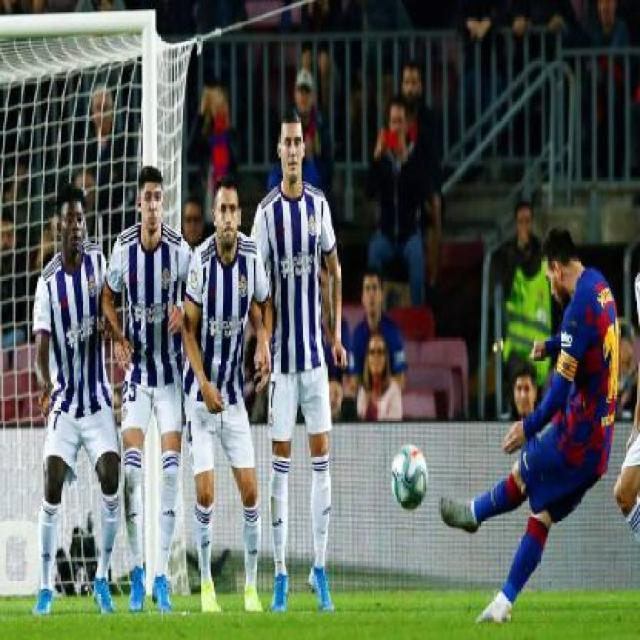ball: (386, 437, 431, 513)
player: (436, 222, 632, 628), (247, 113, 341, 619), (32, 188, 120, 617), (105, 164, 187, 615), (181, 183, 264, 619)
